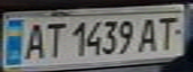1: (66, 19, 87, 57)
3: (100, 18, 121, 56)
4: (84, 18, 103, 56)
9: (115, 17, 139, 56)
A: (18, 19, 48, 61), (136, 16, 163, 53)
T: (151, 14, 184, 52), (39, 19, 66, 60)
